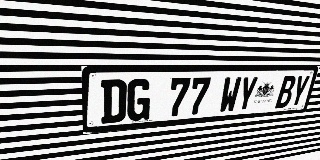7: (166, 78, 191, 118), (187, 77, 211, 116)
B: (275, 76, 297, 108)
D: (101, 79, 127, 124)
G: (126, 79, 152, 122)
W: (218, 77, 242, 113)
Y: (235, 76, 259, 112), (289, 75, 311, 107)
